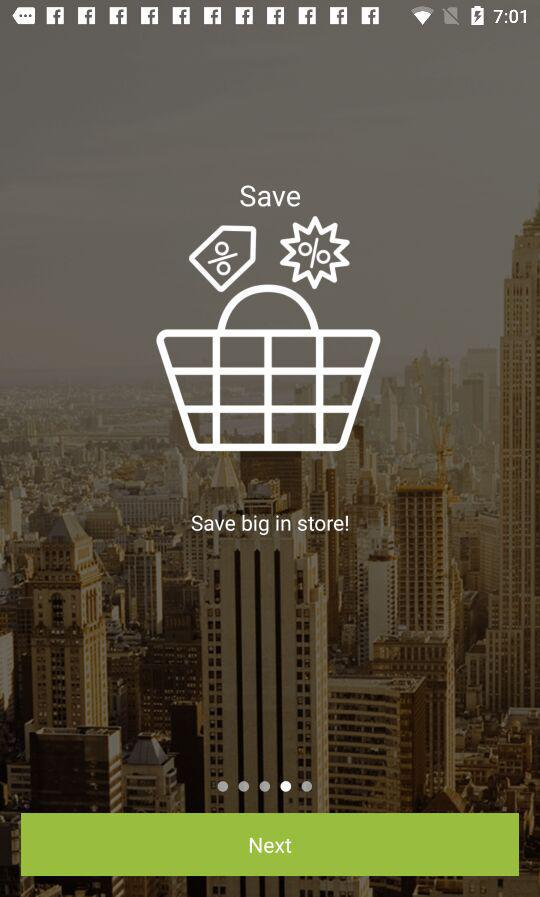BackgroundImage: (1, 27, 540, 897)
Image: (156, 216, 381, 453)
PageIndicator: (216, 780, 313, 793)
Text: (192, 514, 349, 537), (240, 185, 302, 209)
TextButton: (21, 813, 520, 877)
UpperTaskBar: (1, 1, 540, 27)
